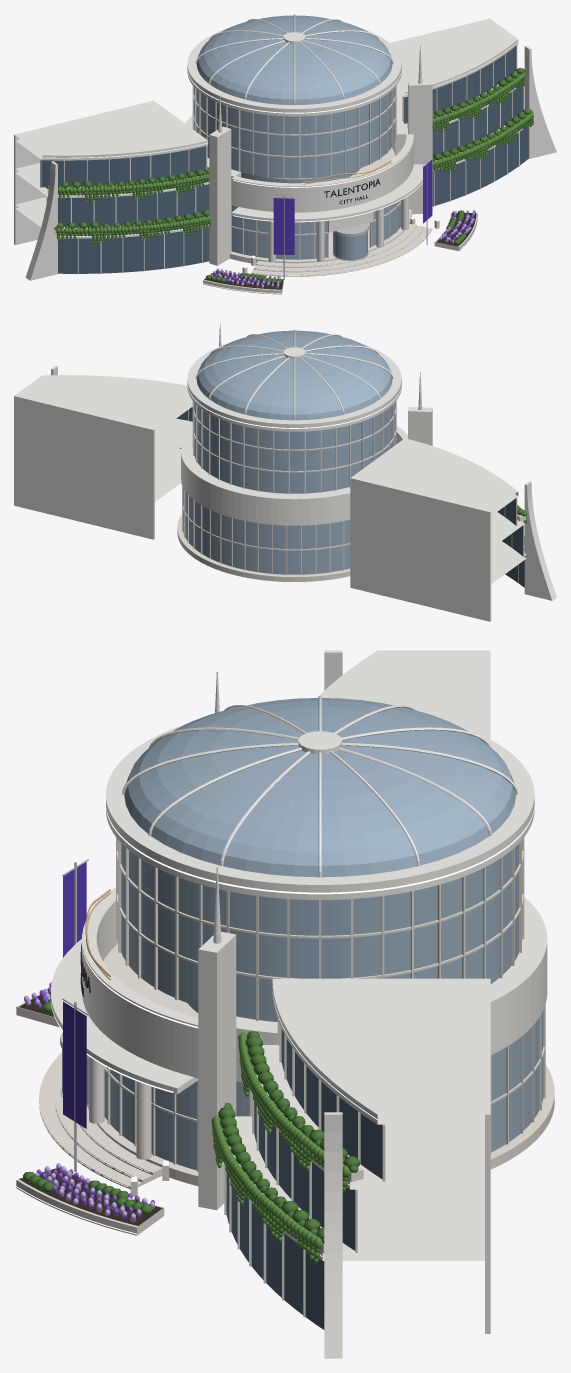
File: cityhall.glb
The picture shows the model from 3 angles, top to bottom: view 1: azimuth 30°, elevation 25°; view 2: azimuth 150°, elevation 25°; view 3: azimuth 270°, elevation 25°; orthographic projection. The views are drawn at different scales.
Visible parts, largest first — view 1: CityHall; view 2: CityHall; view 3: CityHall.
Part boxes in pixels (x1,y1,x2,y2): CityHall: (14,14,556,294); CityHall: (14,323,556,621); CityHall: (16,650,554,1358).
Size of the model in its own units: 66.4 by 21.75 by 29.39.
